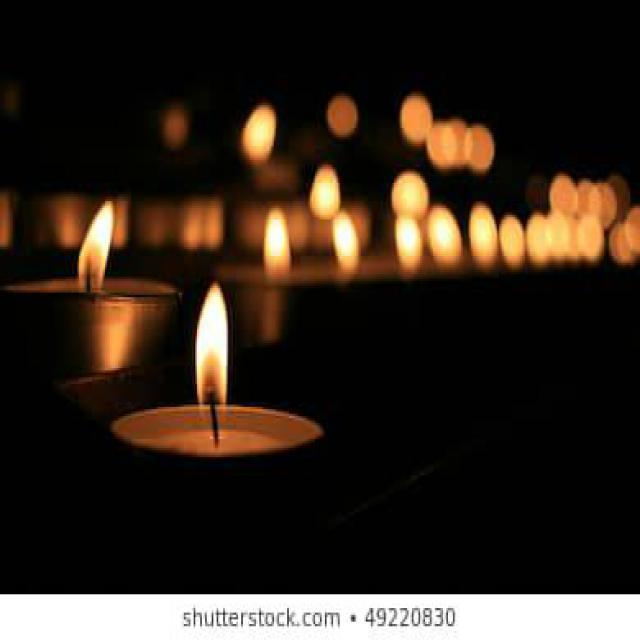Fire: (195, 283, 230, 416), (77, 200, 115, 296)
